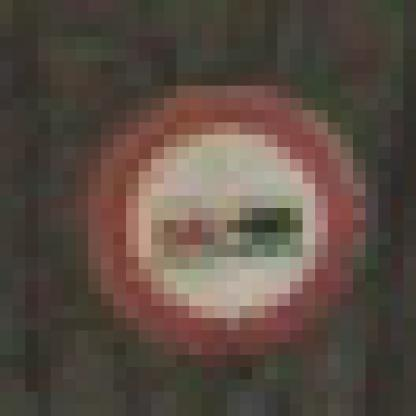No Overtaking: (77, 75, 354, 344)
